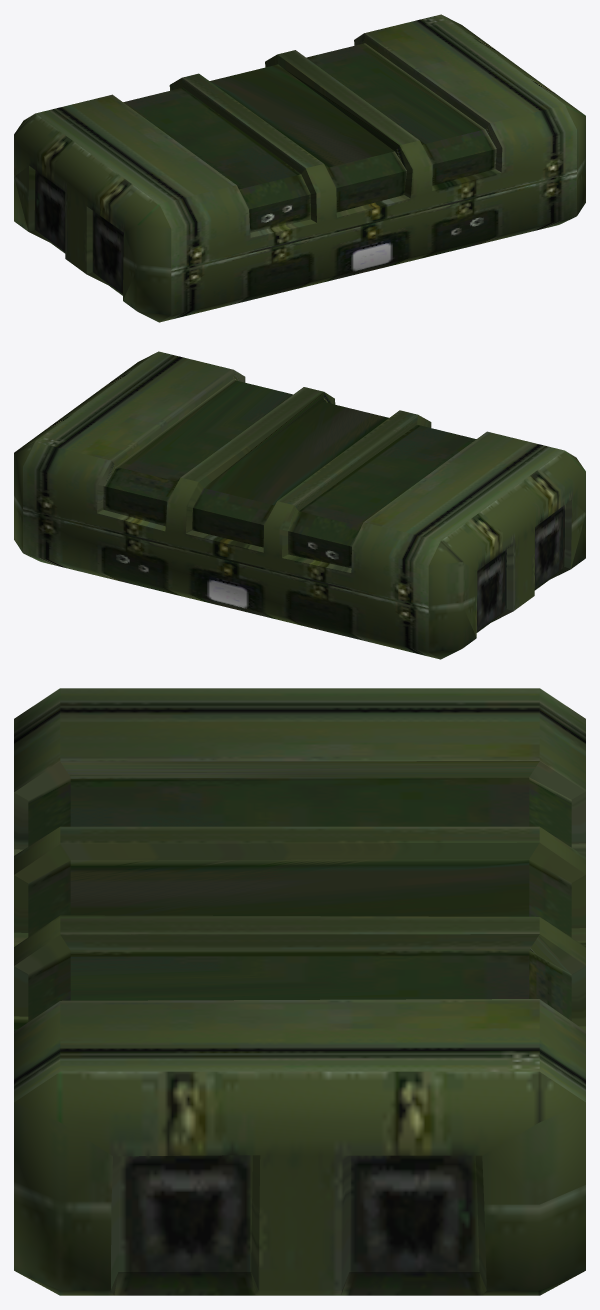
File: fm_case02.fbx
3 views of the same model, one above another, from view 1: azimuth 30°, elevation 25°; view 2: azimuth 150°, elevation 25°; view 3: azimuth 270°, elevation 25° (orthographic). The views are drawn at different scales.
Visible parts, largest first — view 1: mesh_0; view 2: mesh_0; view 3: mesh_0.
Boxes of the visible parts, x1=… form: mesh_0: x1=14, y1=14, x2=585, y2=322; mesh_0: x1=14, y1=351, x2=585, y2=659; mesh_0: x1=14, y1=688, x2=585, y2=1295.
Size of the model in its own units: 118 by 29.9 by 67.5.
1 material, 1 textured.
